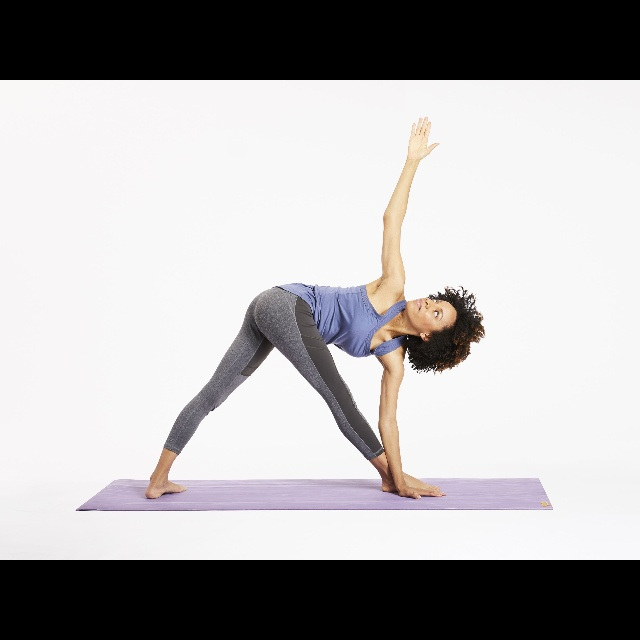Triangle_Pose: (138, 112, 483, 506)
